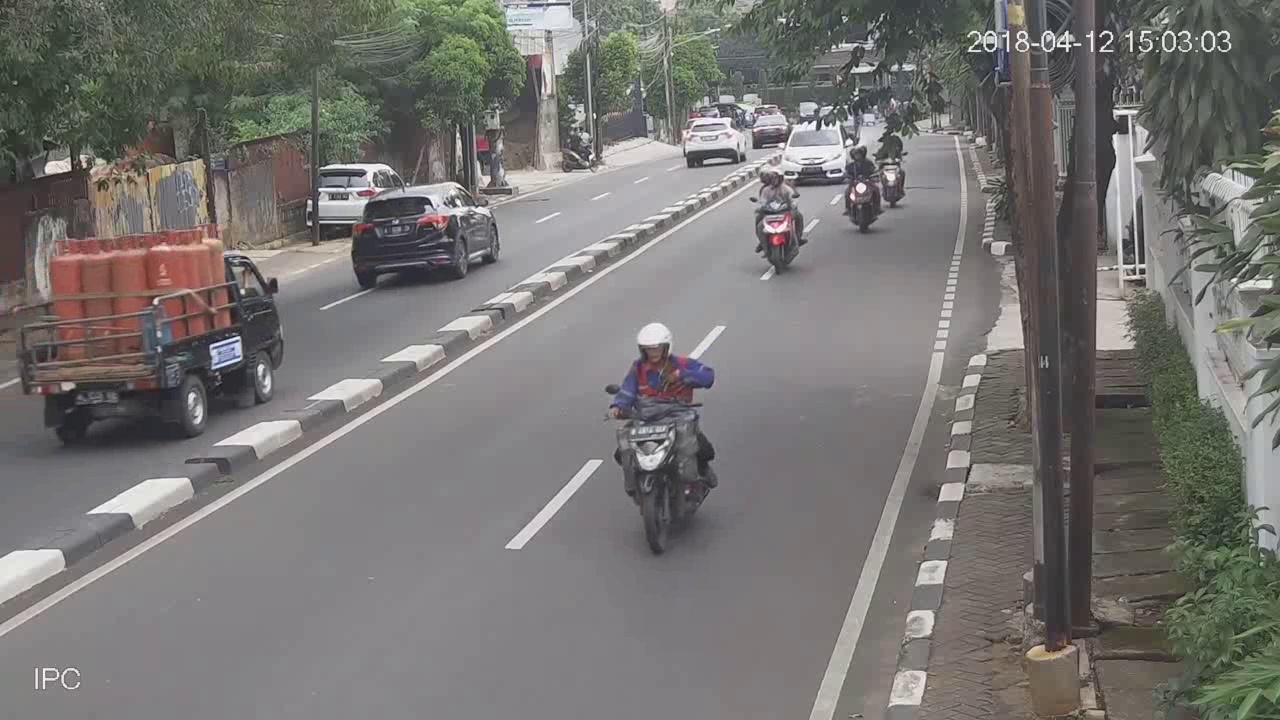car: (350, 182, 503, 287), (781, 123, 846, 182), (307, 164, 370, 220), (682, 114, 746, 168)
motorcycle: (600, 315, 724, 557), (754, 164, 807, 276), (842, 149, 881, 238), (880, 135, 916, 207)
truck: (8, 224, 287, 446)
